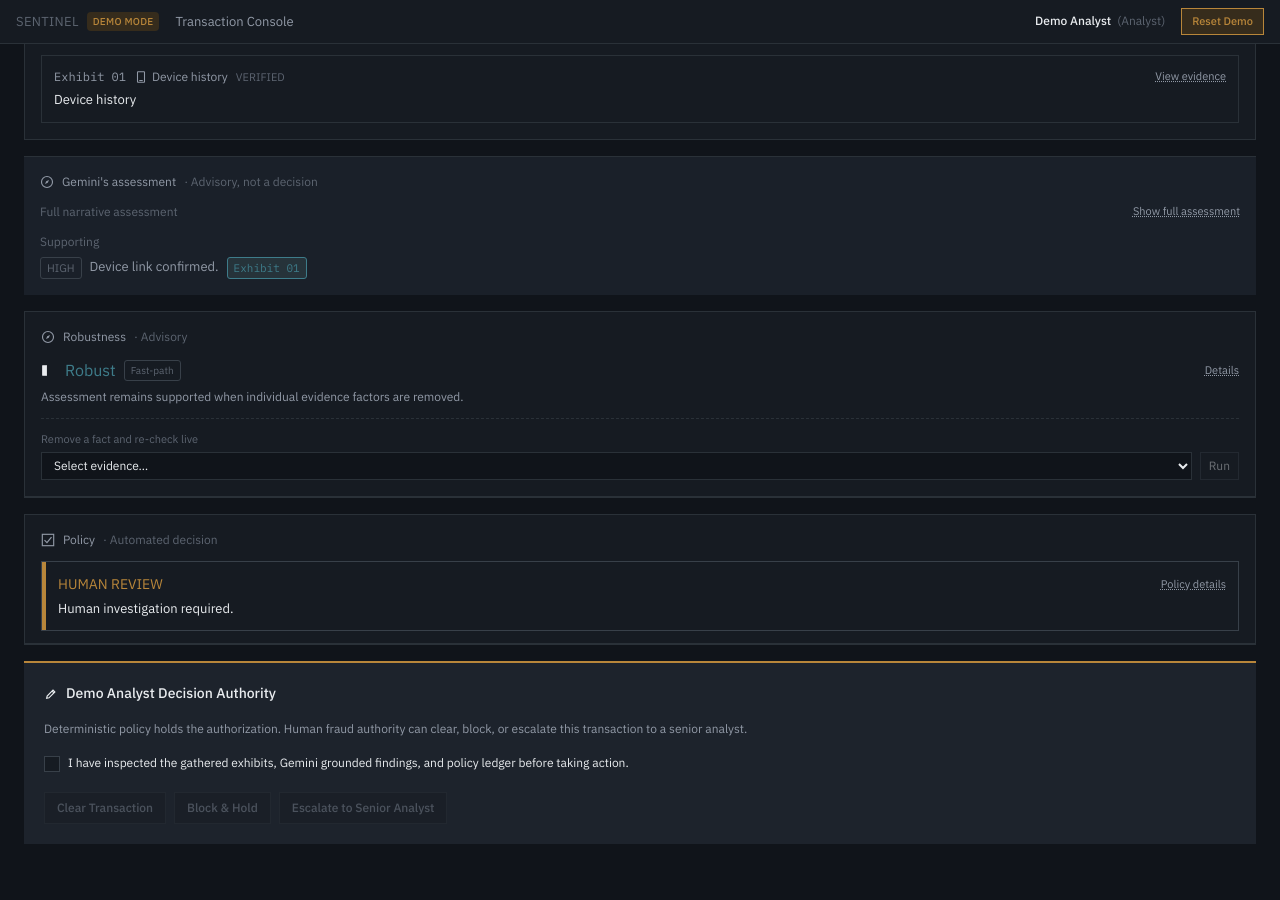
Scenario: DemoCaseDetailPage › renders demo case detail and executes human CLEAR decision
(page scrolled)
Check: the heading "Demo Analyst Decision Authority" is shown, box [66,683,276,704]
Check: the button "Clear Transaction" is shown, box [44,792,166,824]
# Check evidence acknowledged checkbox
Click the checkbox: {"x": 52, "y": 764} [44,756,60,772]
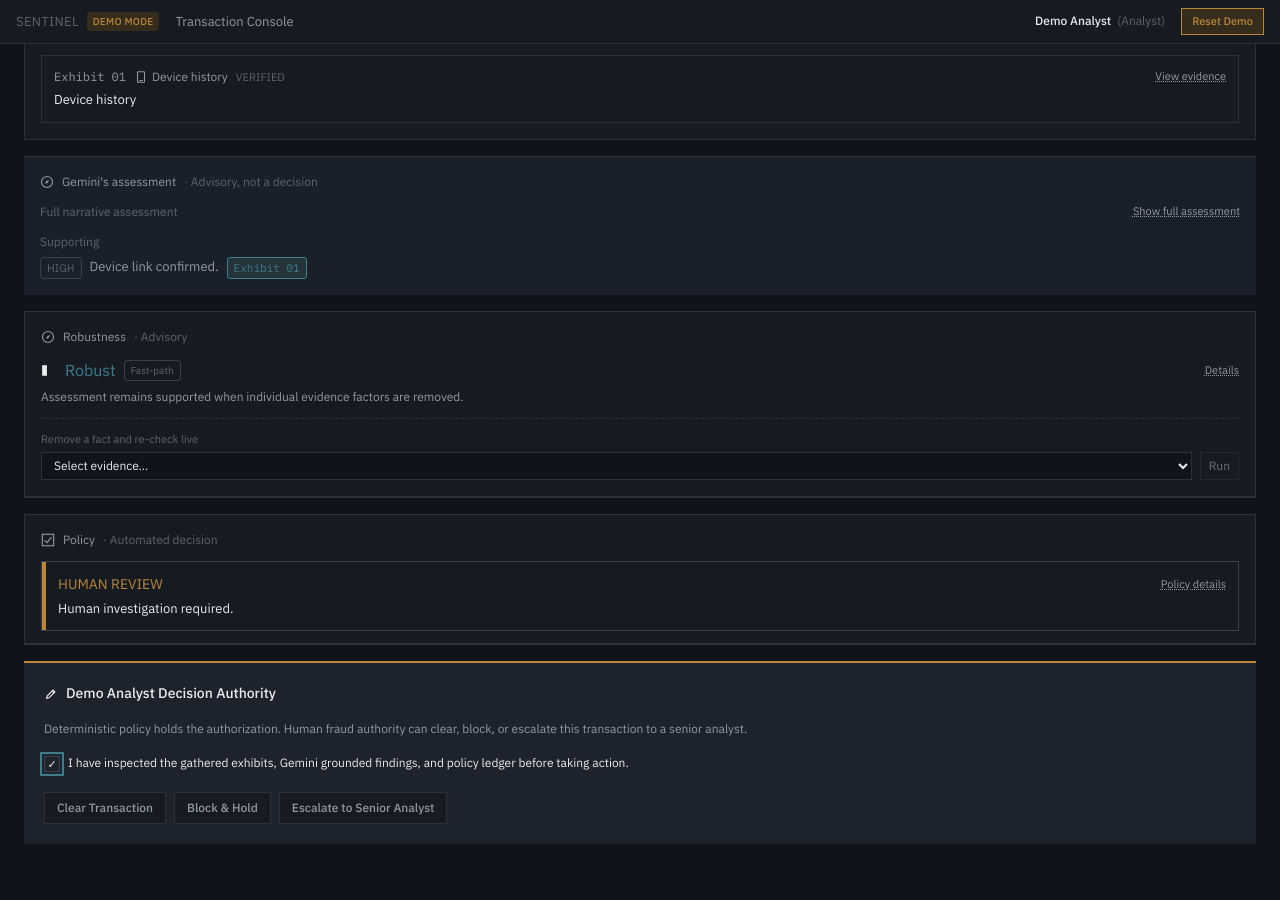
# Click Clear Transaction
Click the button "Clear Transaction": {"x": 105, "y": 808} [44,792,166,824]
(page scrolled)
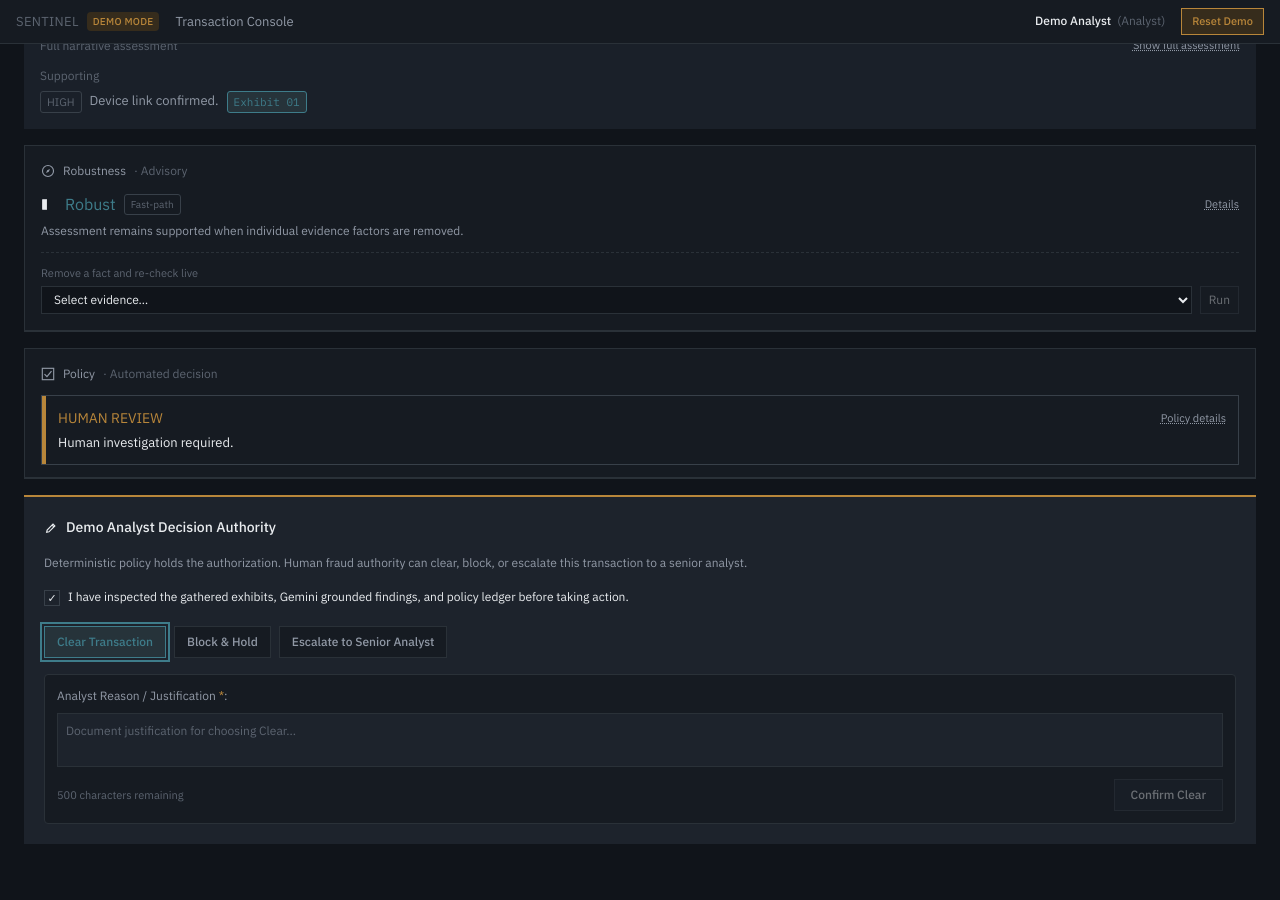
# Type reason
In the text box with placeholder "Document justification for choosing Clear...": {"x": 640, "y": 740} [57,713,1223,767], type "Verified via customer confirmation"
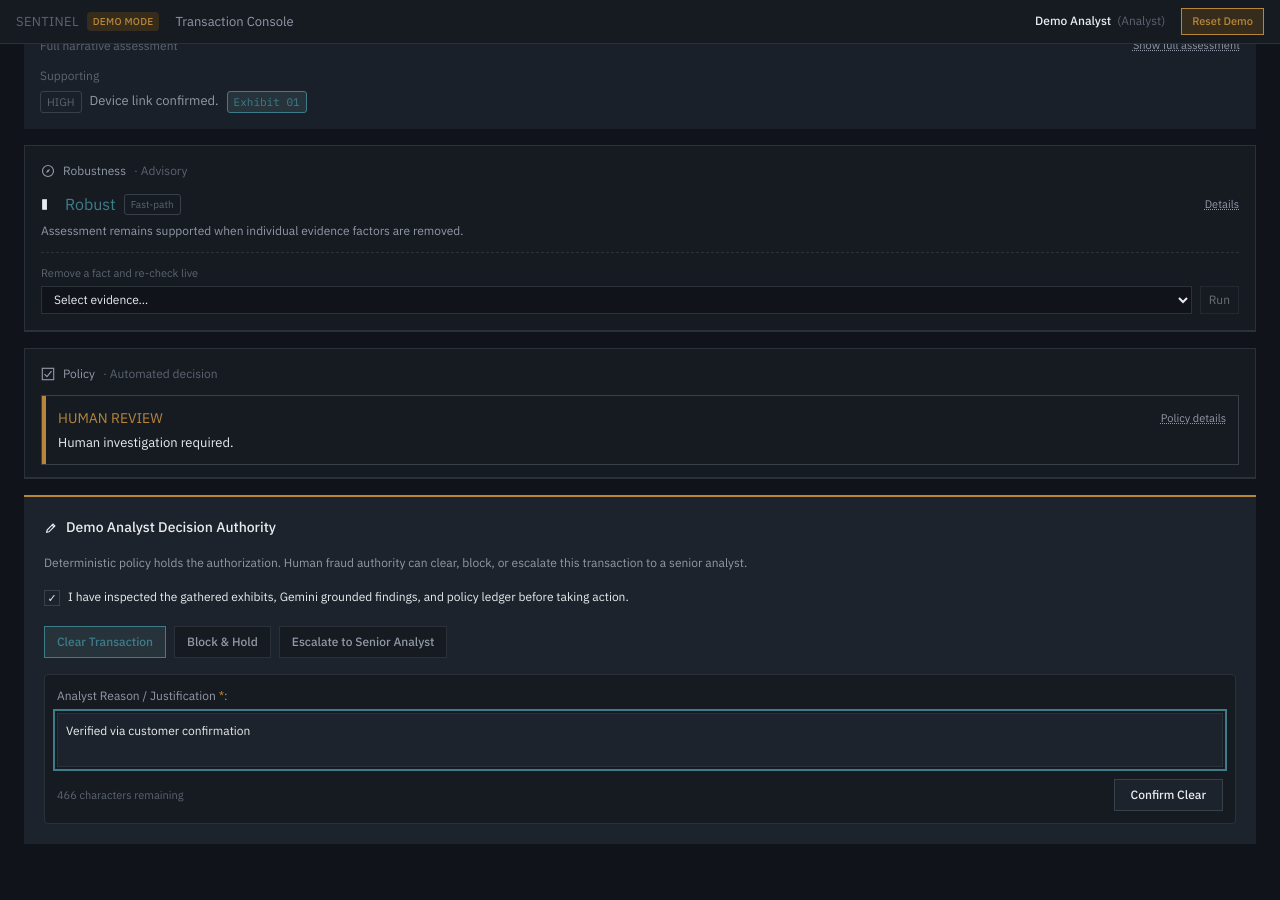
# Click confirm
Click the button "Confirm Clear": {"x": 1168, "y": 795} [1114,779,1223,811]
(page scrolled)
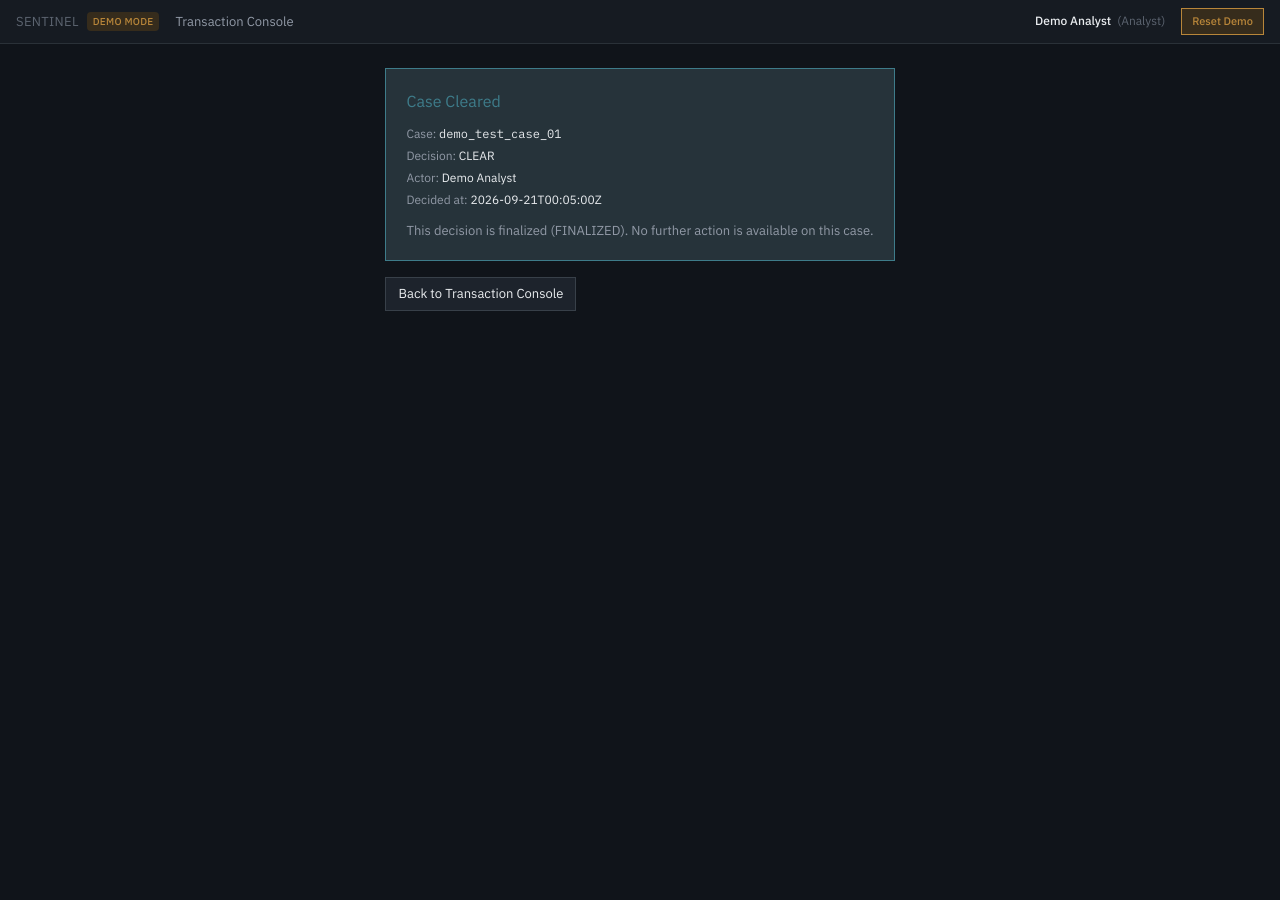
Check: the text "Case Cleared" is shown, box [406,90,501,110]
